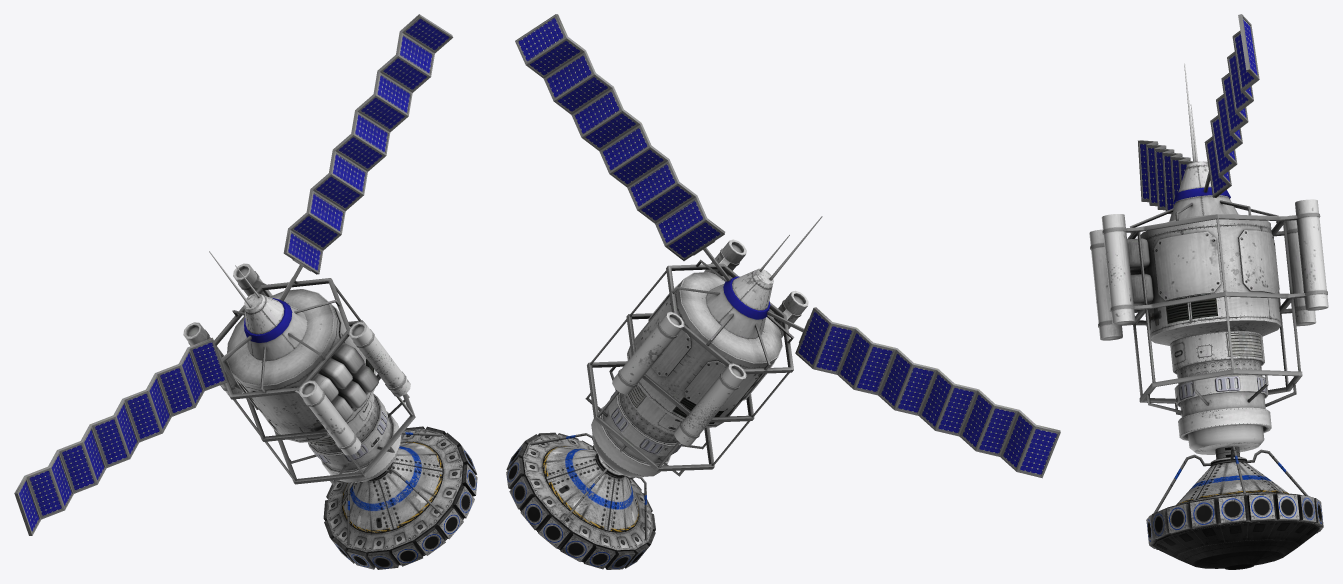
File: satellite.dae
3 views of the same model, side by side, from view 1: azimuth 30°, elevation 25°; view 2: azimuth 150°, elevation 25°; view 3: azimuth 270°, elevation 25° (orthographic). The views are drawn at different scales.
Visible parts, largest first — view 1: sat, Group002, space_ship; view 2: Group002, sat, space_ship, ship_door; view 3: sat, space_ship, Group002, ship_door.
Part boxes in pixels (x1,y1,x2,y2): sat: [183, 251, 415, 485]; Group002: [14, 14, 453, 535]; space_ship: [323, 426, 477, 569]; Group002: [515, 14, 1060, 478]; sat: [585, 216, 822, 477]; space_ship: [506, 432, 655, 569]; ship_door: [535, 460, 616, 543]; sat: [1089, 63, 1328, 459]; space_ship: [1146, 446, 1323, 569]; Group002: [1138, 14, 1259, 214]; ship_door: [1243, 449, 1308, 496].
Bounding box in the file's own units: 2.64 × 1.02 × 2.7.
Materials: 2 (2 with a texture image).
